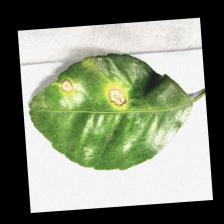canker: (55, 75, 137, 118)
